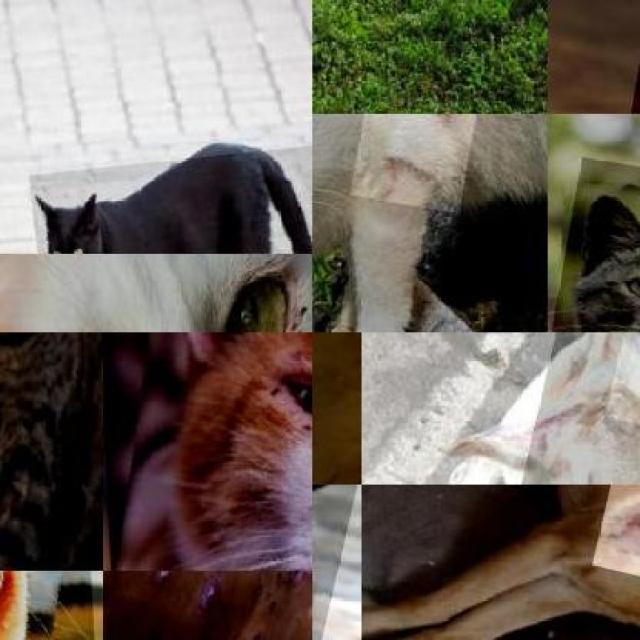cat: (312, 114, 548, 332), (103, 332, 312, 571), (30, 144, 312, 253), (0, 253, 312, 332), (0, 332, 103, 571)
cow: (469, 332, 640, 485)
dog: (361, 484, 640, 640)
injured: (350, 114, 492, 212), (206, 571, 312, 640), (591, 484, 640, 584), (103, 571, 180, 629)
